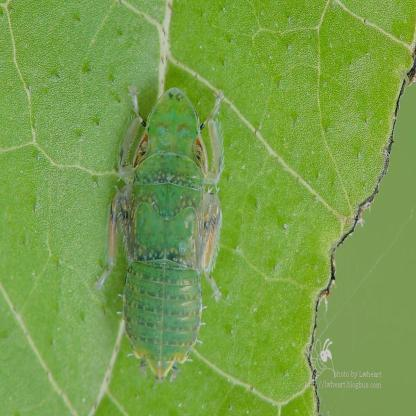green-leafhopper: (111, 86, 220, 379)
